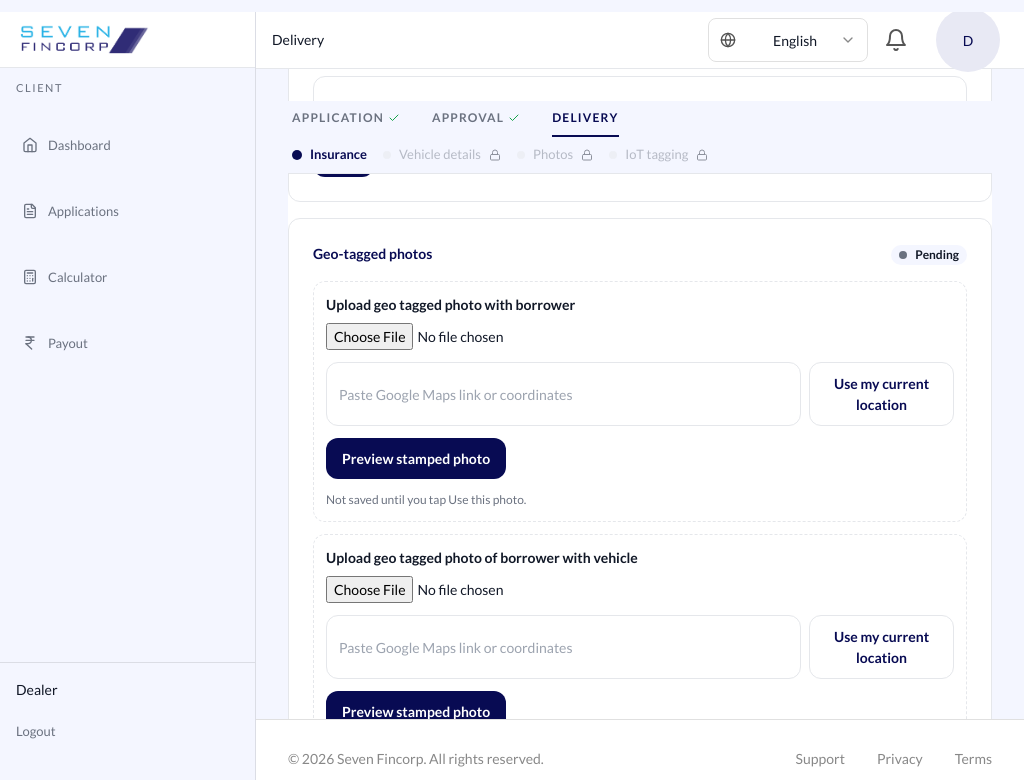
DealerDeliveryPage › captures the device location, rejects a denial and a point outside India
Later steps or results of the test are not shown.
(page scrolled)
Click the button with test id "geo-locate-withSupportPerson": (882, 394) [809,362,954,426]
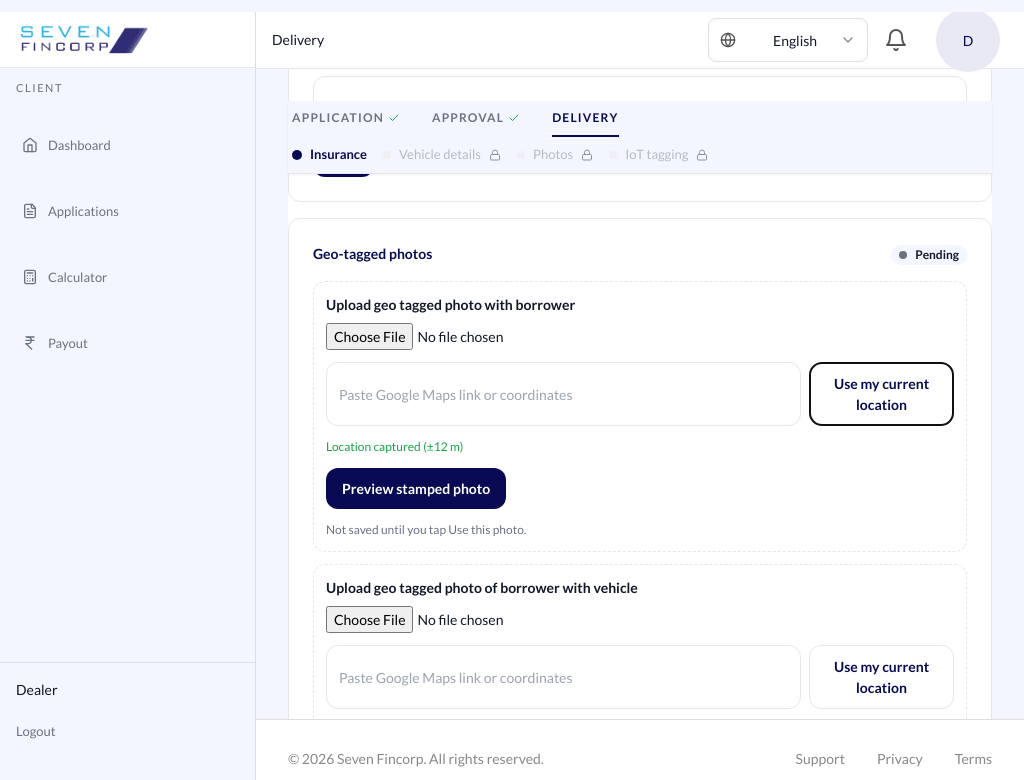
Expected: the text with test id "geo-location-note-withSupportPerson" reads "Location captured (±12 m)", [326,439,463,454]
